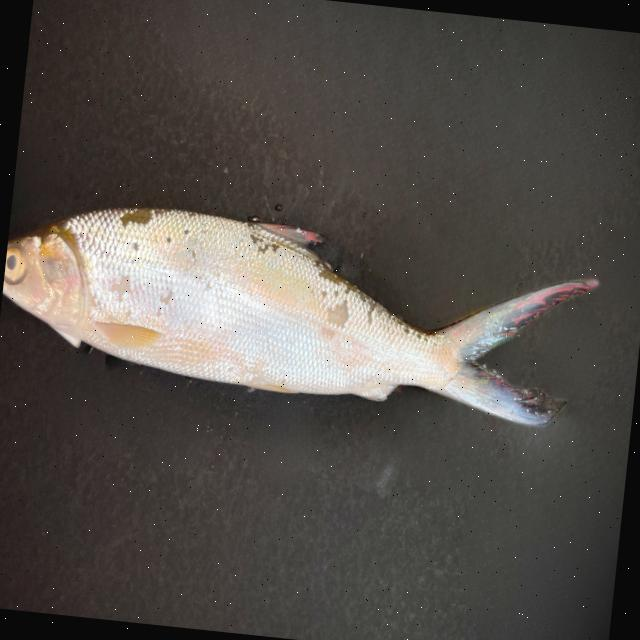555 g: (0, 190, 593, 429)
